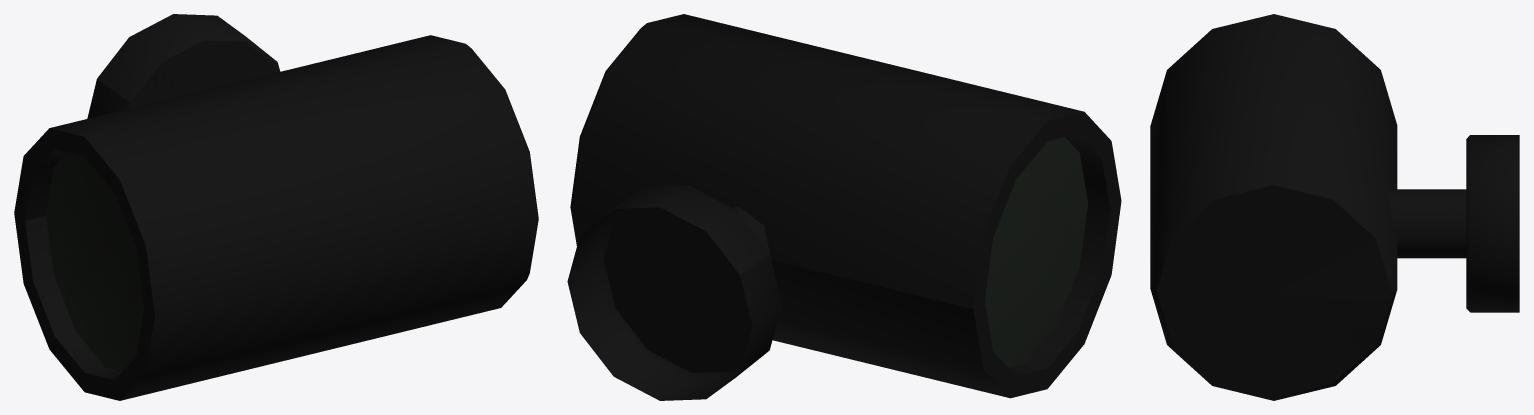
The model's file is cP_WallLight01.dae.
3 renders of one model, left to right at view 1: azimuth 30°, elevation 25°; view 2: azimuth 150°, elevation 25°; view 3: azimuth 270°, elevation 25°, orthographic. The views are drawn at different scales.
Parts seen in each view (by area): view 1: cP_WallLight01.001; view 2: cP_WallLight01.001; view 3: cP_WallLight01.001.
Part boxes in pixels (bbox=[...]): cP_WallLight01.001: bbox=[14, 14, 538, 400]; cP_WallLight01.001: bbox=[567, 14, 1121, 400]; cP_WallLight01.001: bbox=[1150, 14, 1519, 400].
Bounding box in the file's own units: 0.1499 × 0.1412 × 0.0945.
